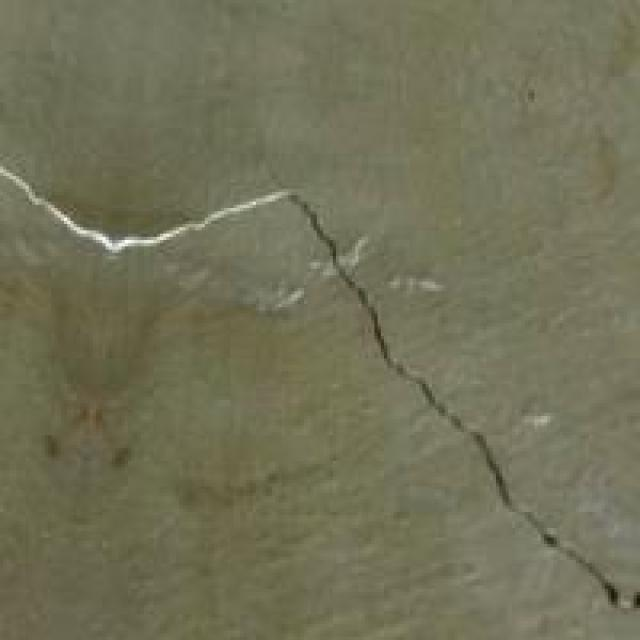crack: (3, 122, 634, 611)
